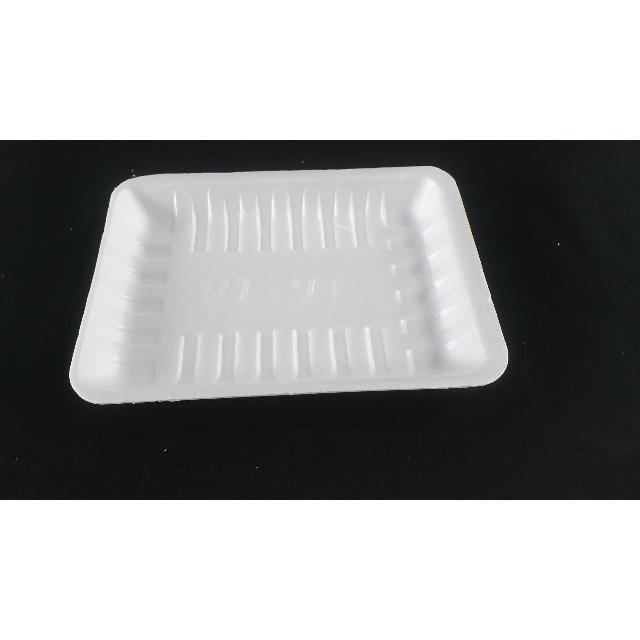Plastico descartable: (67, 167, 510, 409)
